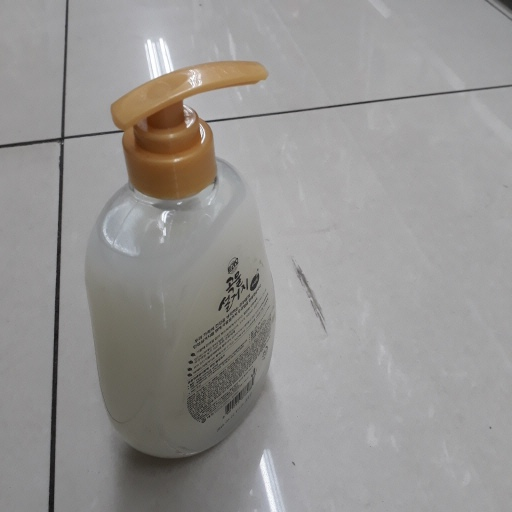Plastic_3: (80, 62, 276, 464)
